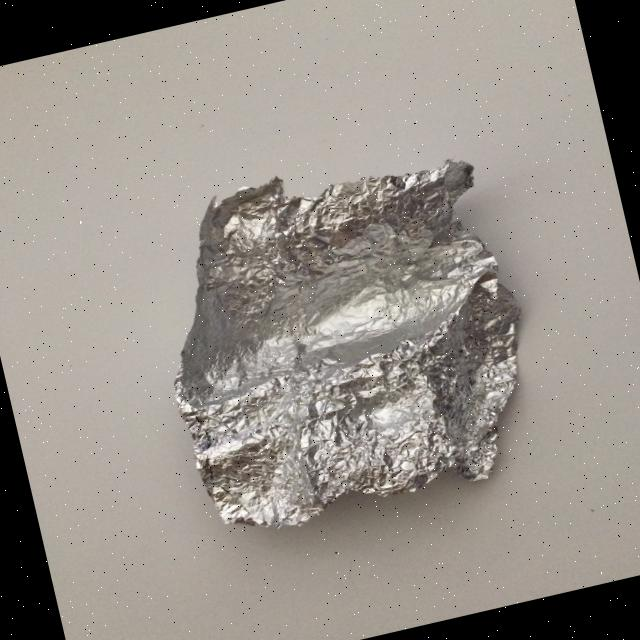metal: (130, 128, 557, 546)
